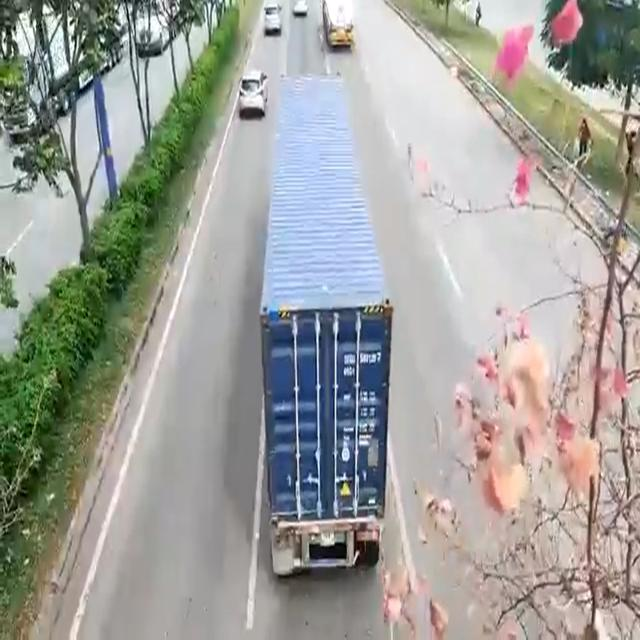car: (236, 66, 261, 120)
truck: (275, 74, 382, 558)
